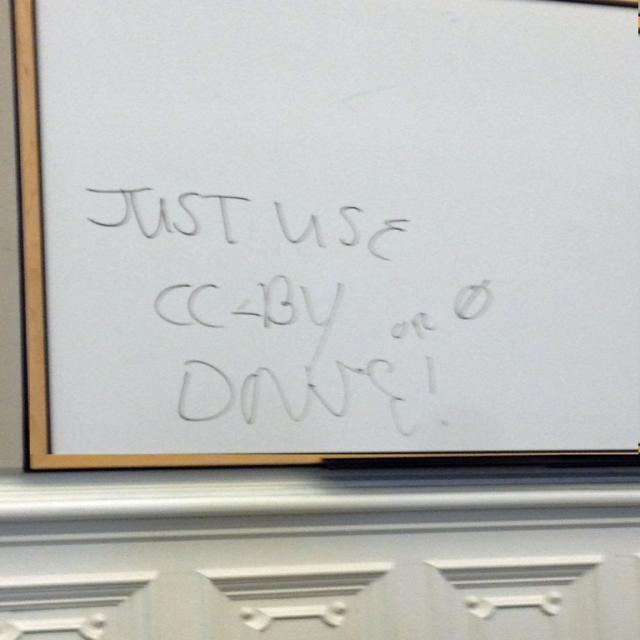Whiteboard: (15, 0, 639, 468)
